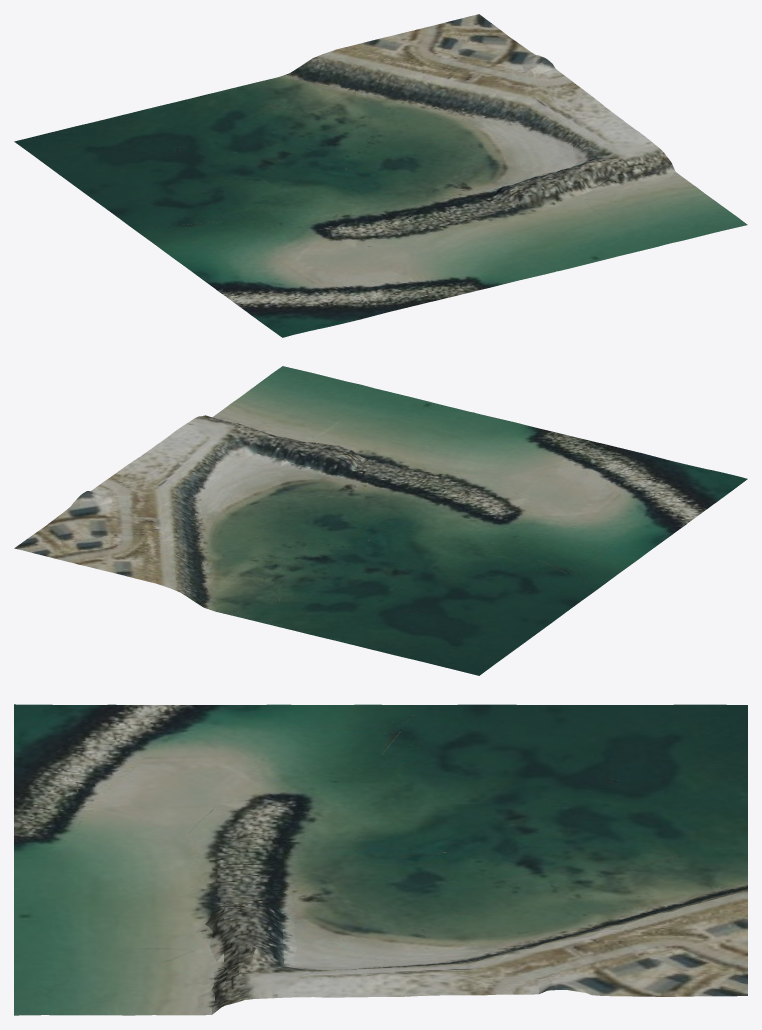
3 views of the same model, one above another, from view 1: azimuth 30°, elevation 25°; view 2: azimuth 150°, elevation 25°; view 3: azimuth 270°, elevation 25° (orthographic). The views are drawn at different scales.
Bounding box in the file's own units: 209 × 8.45 × 209.
Materials: 2 (2 with a texture image).
